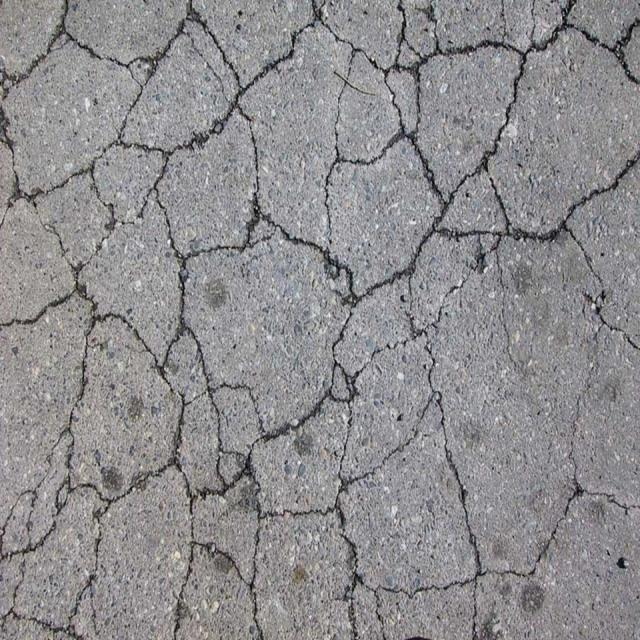Drain Hole: (33, 64, 529, 525)
